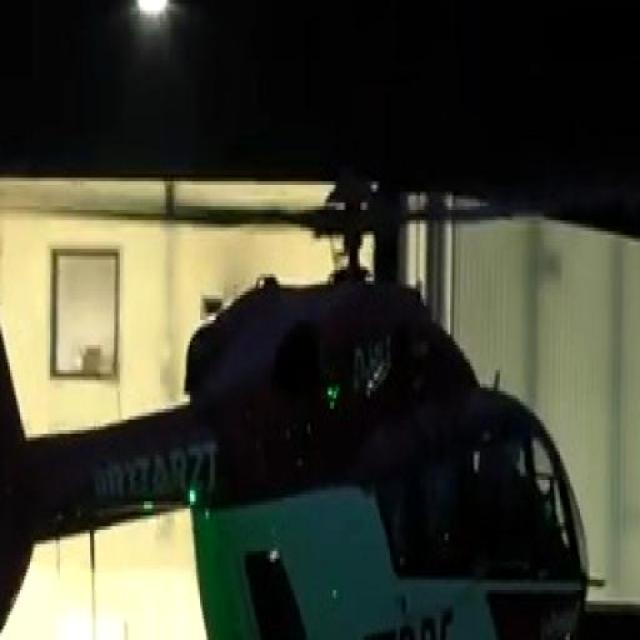drone: (0, 78, 609, 640)
